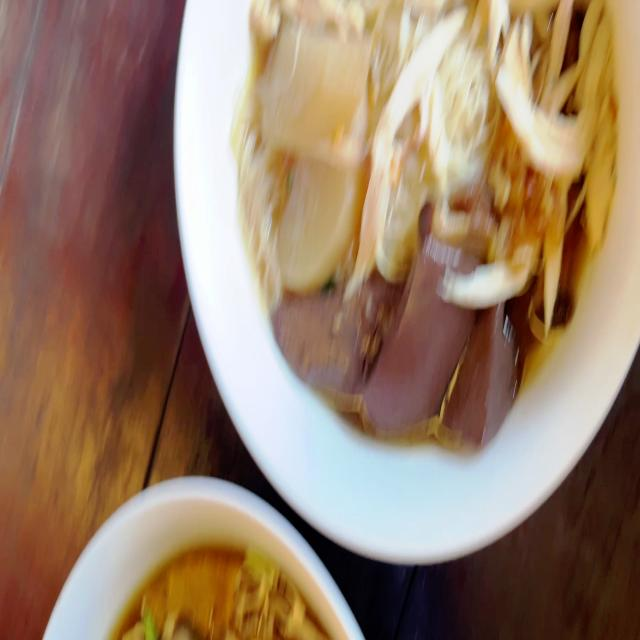boiled_chicken_blood_jelly: (367, 252, 486, 418), (260, 283, 374, 416), (465, 304, 522, 430)
chicken_shredded: (375, 0, 630, 293)
daikon_radish: (264, 23, 368, 150), (290, 162, 355, 288)
noodle: (219, 0, 626, 475), (102, 542, 351, 640)
